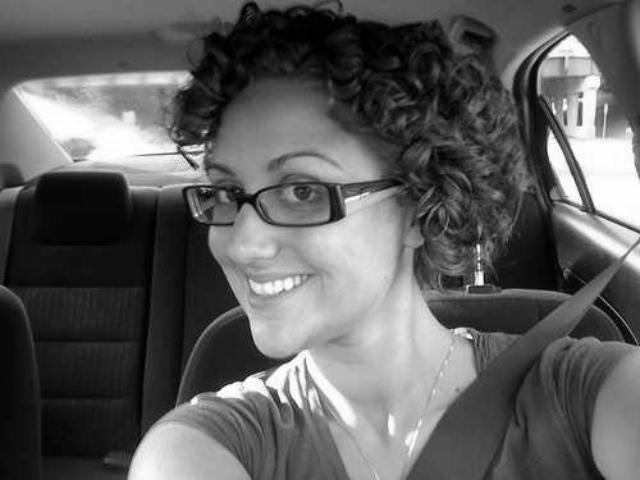SafeDriving: (269, 166, 331, 215)
Seatbelt: (404, 232, 640, 480)
